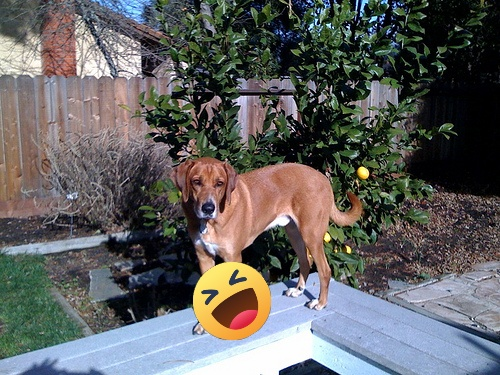haha: (193, 262, 271, 340)
